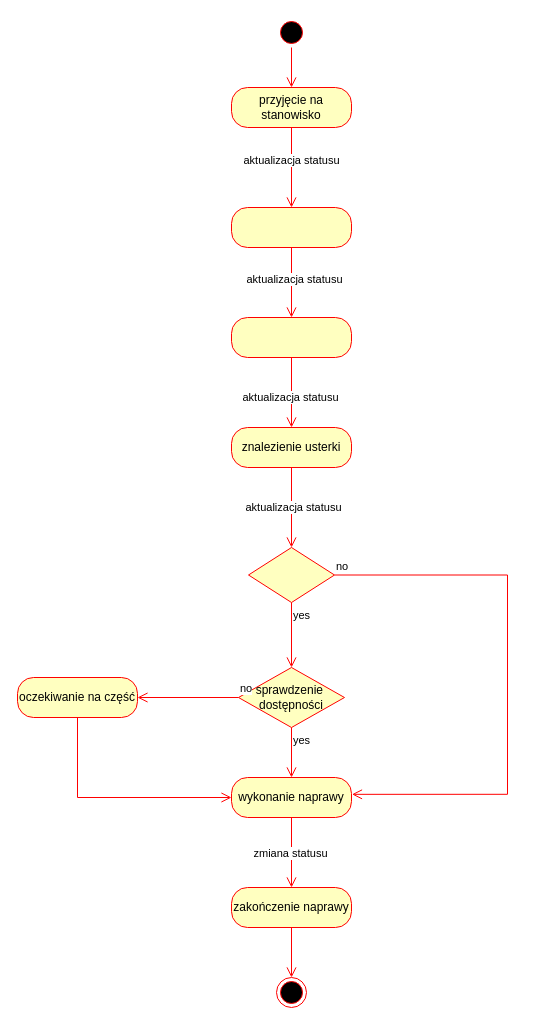
Image size: 535x1025. Some labels were removed from this diagram. Here are the shapes that lost their labels. From the top down, the box of each, then its label:
(230, 206, 352, 248): rozpoczęcie naprawy
(230, 316, 352, 358): rozebranie samochodu
(248, 546, 334, 602): wymiana części
